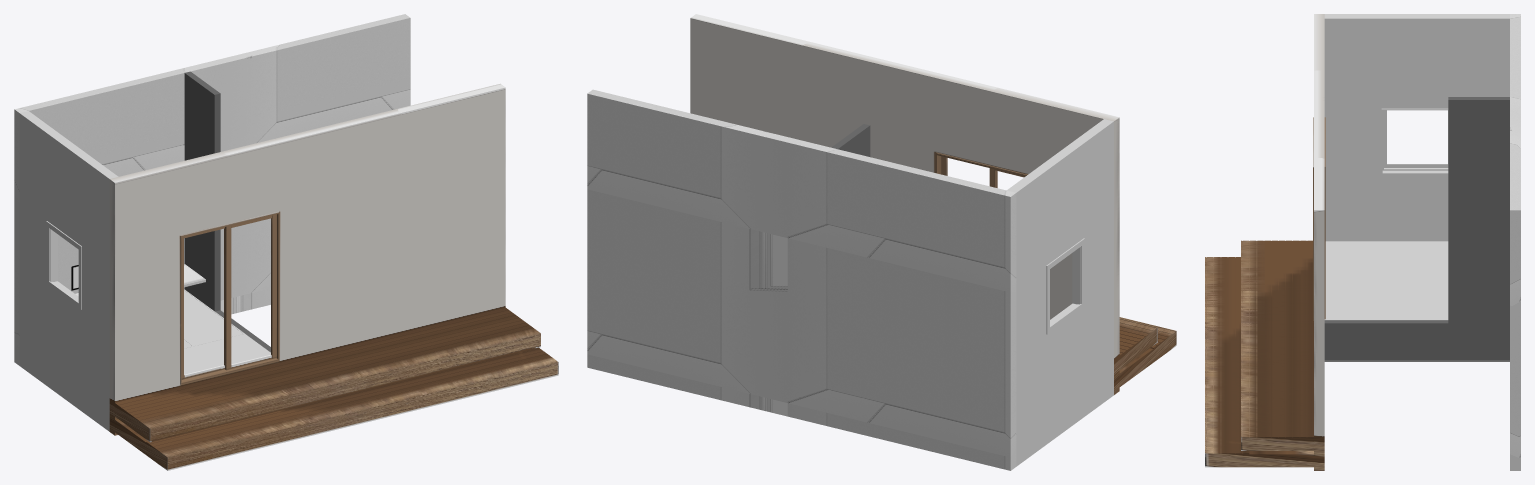
The picture shows the model from 3 angles, left to right: view 1: azimuth 30°, elevation 25°; view 2: azimuth 150°, elevation 25°; view 3: azimuth 270°, elevation 25°; orthographic projection. The views are drawn at different scales.
Visible parts, largest first — view 1: 1.wall.002, 1.wall.001, 1.wall, 4-2.deck, 4-2.deck.002, 1.wall.003, 3.window.001, 2.floor.004, 2.floor.003, 4.deck.003, 4.deck.012, 4.deck.015 (+18 smaller); view 2: 1.wall.001, 1.wall.002, 1.wall, 3-2.window, 4.deck.011, 3-3.window, 1.wall.003; view 3: 1.wall, 1.wall.003, 2.floor, 1.wall.002, 1.wall.001, 2.floor.001, 2.floor.004, 2.floor.003, 4.deck.011, 3.floor.005, 4.deck.013, 4.deck.003 (+18 smaller).
Boxes of the visible parts, left/top/right/bottom form: 1.wall.002: left=109, top=83, right=505, bottom=435; 1.wall.001: left=14, top=14, right=410, bottom=365; 1.wall: left=19, top=111, right=118, bottom=431; 4-2.deck: left=149, top=333, right=540, bottom=442; 4-2.deck.002: left=167, top=361, right=558, bottom=470; 1.wall.003: left=184, top=71, right=220, bottom=311; 3.window.001: left=225, top=214, right=276, bottom=370; 2.floor.004: left=184, top=333, right=270, bottom=374; 2.floor.003: left=184, top=289, right=243, bottom=345; 4.deck.003: left=139, top=325, right=532, bottom=423; 4.deck.012: left=163, top=359, right=557, bottom=457; 4.deck.015: left=153, top=351, right=546, bottom=449; 1.wall.001: left=587, top=89, right=1016, bottom=470; 1.wall.002: left=690, top=14, right=1119, bottom=394; 1.wall: left=1007, top=119, right=1113, bottom=466; 3-2.window: left=1046, top=238, right=1084, bottom=334; 4.deck.011: left=1119, top=332, right=1176, bottom=386; 3-3.window: left=1047, top=240, right=1084, bottom=332; 1.wall.003: left=831, top=124, right=870, bottom=156; 1.wall: left=1324, top=14, right=1509, bottom=241; 1.wall.003: left=1448, top=97, right=1509, bottom=323; 2.floor: left=1324, top=320, right=1509, bottom=360; 1.wall.002: left=1314, top=14, right=1324, bottom=470; 1.wall.001: left=1510, top=14, right=1520, bottom=470; 2.floor.001: left=1325, top=241, right=1448, bottom=267; 2.floor.004: left=1324, top=267, right=1386, bottom=320; 2.floor.003: left=1386, top=293, right=1448, bottom=320; 4.deck.011: left=1206, top=451, right=1313, bottom=467; 3.floor.005: left=1386, top=267, right=1448, bottom=293; 4.deck.013: left=1213, top=257, right=1220, bottom=454; 4.deck.003: left=1256, top=240, right=1263, bottom=437.
Bounding box in the file's own units: 6.49 × 4 × 4.4.
6 materials, 4 textured.
